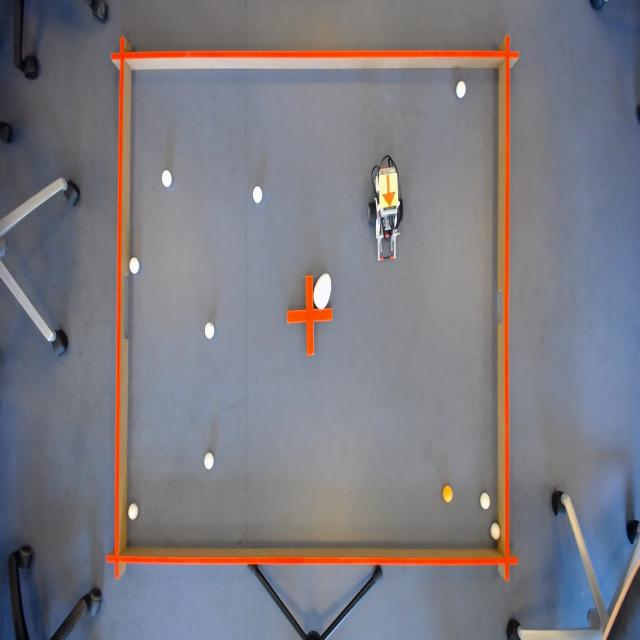cross: (287, 274, 332, 358)
egg: (312, 271, 332, 310)
orange_ball: (442, 482, 454, 506)
robot: (378, 170, 400, 210)
white_ball: (488, 517, 501, 543), (128, 254, 141, 278), (127, 500, 140, 524), (454, 76, 467, 100), (202, 451, 216, 473), (251, 184, 264, 207), (479, 490, 492, 512), (161, 167, 174, 189), (204, 319, 215, 342)
